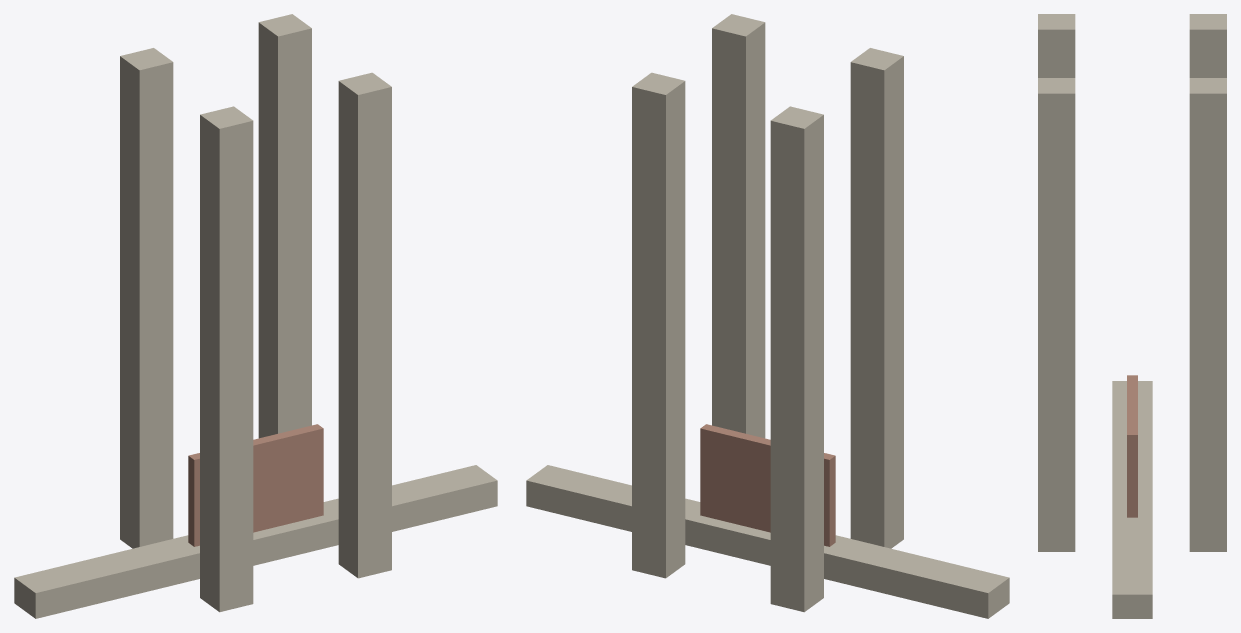
Rendered from iz3_neighborhood_avlu_geniş.glb.
3 renders of one model, left to right at view 1: azimuth 30°, elevation 25°; view 2: azimuth 150°, elevation 25°; view 3: azimuth 270°, elevation 25°, orthographic. The views are drawn at different scales.
Parts seen in each view (by area): view 1: colonnade (×4), paving, planter; view 2: colonnade (×4), paving, planter; view 3: colonnade (×4), paving, planter.
Part boxes in pixels (left/top/right/bottom): colonnade (×4): left=120, top=14, right=391, bottom=612; paving: left=14, top=465, right=497, bottom=618; planter: left=188, top=424, right=323, bottom=546; colonnade (×4): left=632, top=14, right=903, bottom=612; paving: left=526, top=465, right=1009, bottom=618; planter: left=700, top=424, right=835, bottom=546; colonnade (×4): left=1038, top=14, right=1226, bottom=551; paving: left=1112, top=381, right=1152, bottom=618; planter: left=1127, top=375, right=1137, bottom=517.
Size of the model in its own units: 3 by 3 by 1.12.
